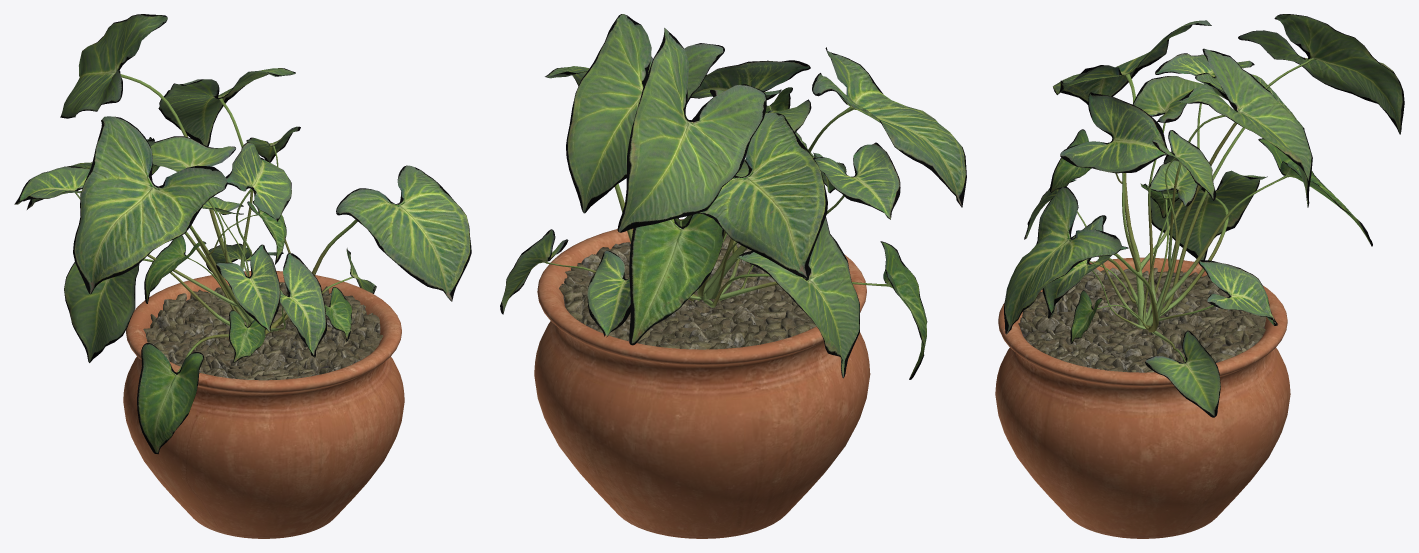
Rendered from potted_plant_02.glb.
3 renders of one model, left to right at view 1: azimuth 30°, elevation 25°; view 2: azimuth 150°, elevation 25°; view 3: azimuth 270°, elevation 25°, orthographic. The views are drawn at different scales.
Visible parts, largest first — view 1: potted_plant_02_leaves, potted_plant_02_pot; view 2: potted_plant_02_leaves, potted_plant_02_pot; view 3: potted_plant_02_pot, potted_plant_02_leaves.
Boxes of the visible parts, x1=… form: potted_plant_02_leaves: x1=14, y1=14, x2=471, y2=454; potted_plant_02_pot: x1=123, y1=271, x2=404, y2=538; potted_plant_02_leaves: x1=500, y1=14, x2=966, y2=379; potted_plant_02_pot: x1=534, y1=219, x2=870, y2=538; potted_plant_02_pot: x1=995, y1=257, x2=1290, y2=538; potted_plant_02_leaves: x1=1004, y1=14, x2=1404, y2=417.
Size of the model in its own units: 0.7009 by 0.8412 by 0.6574.
2 materials, 2 textured.
